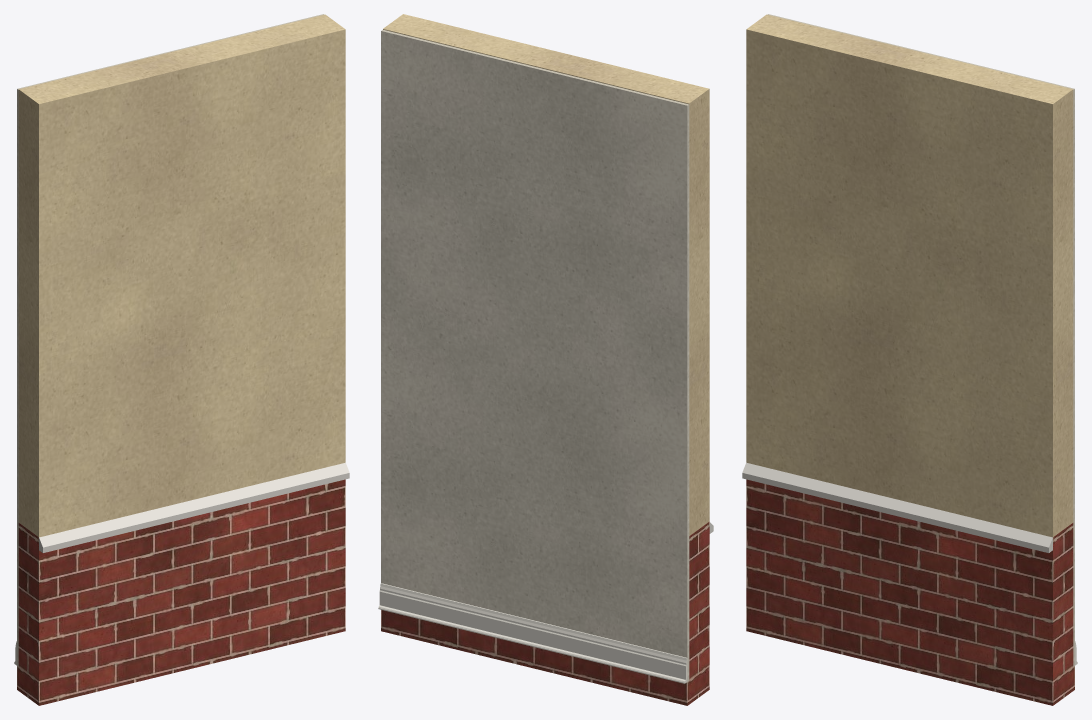
The model's file is w_plain.glb.
3 views of the same model, side by side, from view 1: azimuth 30°, elevation 25°; view 2: azimuth 150°, elevation 25°; view 3: azimuth 330°, elevation 25° (orthographic).
Visible parts, largest first — view 1: w_plain_render, w_plain_brick, w_plain_cill, w_plain_plaster; view 2: w_plain_plaster, w_plain_render, w_plain_brick, molduras; view 3: w_plain_render, w_plain_brick, w_plain_cill, w_plain_plaster.
Part boxes in pixels (x1,y1,x2,y2): w_plain_render: (18,14,345,537); w_plain_brick: (17,479,345,705); w_plain_cill: (39,462,349,552); w_plain_plaster: (17,14,323,666); w_plain_plaster: (381,30,689,681); w_plain_render: (383,14,709,535); w_plain_brick: (381,521,709,705); molduras: (378,583,687,683); w_plain_render: (746,14,1073,537); w_plain_brick: (746,479,1074,705); w_plain_cill: (742,462,1052,552); w_plain_plaster: (768,14,1074,666).
Size of the model in its own units: 2 by 3.75 by 0.325.
Materials: 5 (3 with a texture image).
